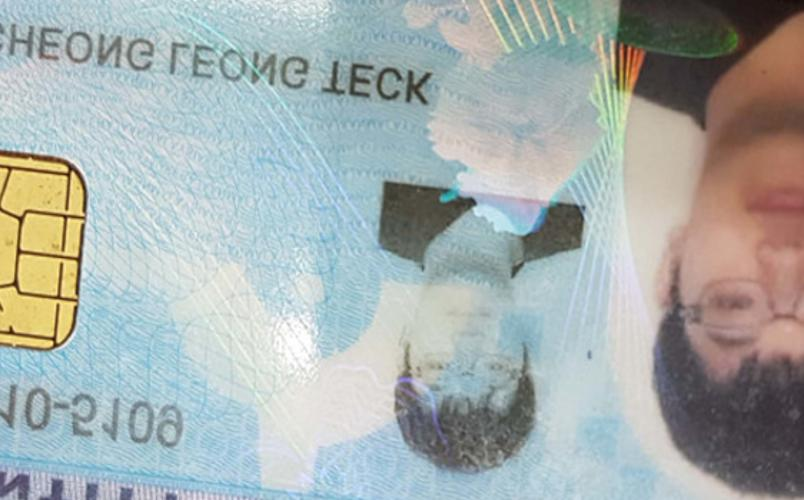hologramB: (434, 4, 606, 190)
